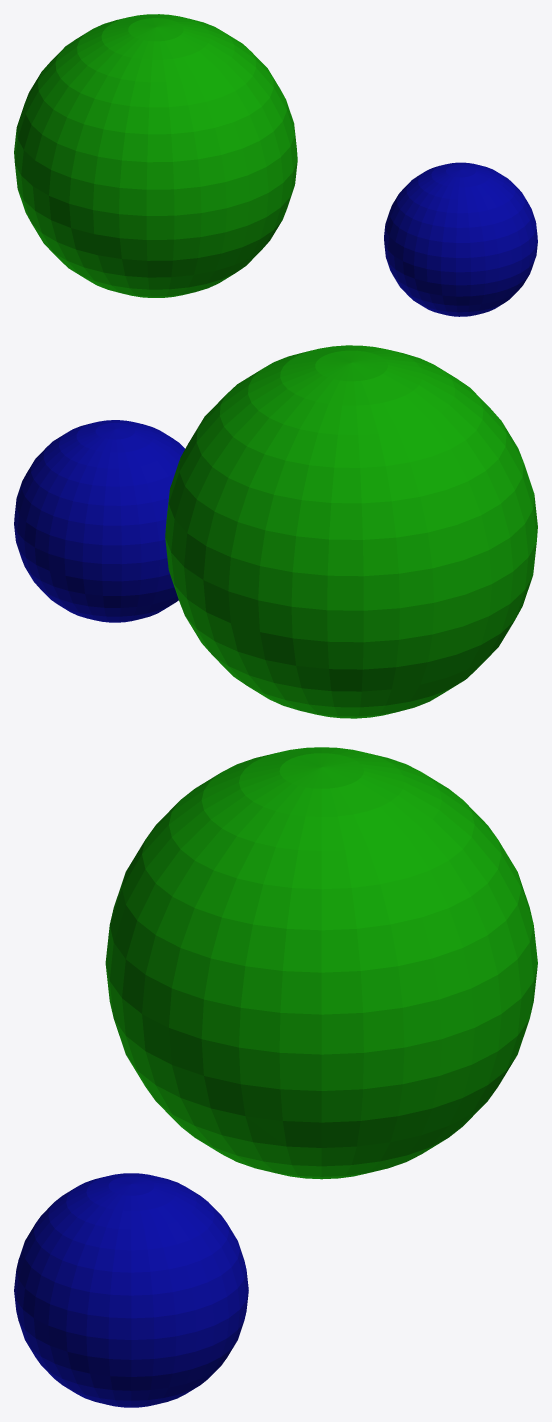
The model's file is twospheres.obj.
3 views of the same model, one above another, from view 1: azimuth 30°, elevation 25°; view 2: azimuth 150°, elevation 25°; view 3: azimuth 270°, elevation 25° (orthographic). The views are drawn at different scales.
Parts seen in each view (by area): view 1: Sphere, Sphere.001; view 2: Sphere, Sphere.001; view 3: Sphere, Sphere.001.
Part boxes in pixels (x1=…): Sphere: x1=14, y1=14, x2=297, y2=297; Sphere.001: x1=384, y1=162, x2=537, y2=316; Sphere: x1=165, y1=345, x2=537, y2=718; Sphere.001: x1=14, y1=420, x2=184, y2=622; Sphere: x1=105, y1=747, x2=537, y2=1179; Sphere.001: x1=14, y1=1173, x2=248, y2=1407.
Size of what is drawn, in the model's own units: 2.67 by 1.74 by 1.84.
